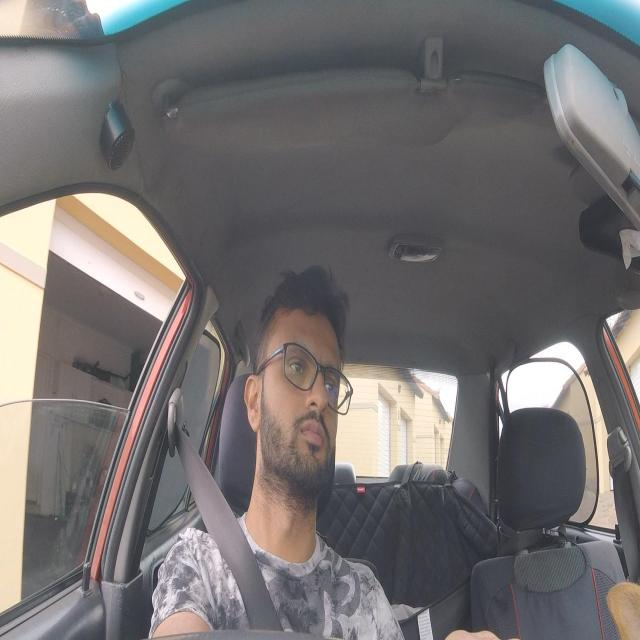open: (282, 338, 312, 384), (322, 359, 341, 409)
